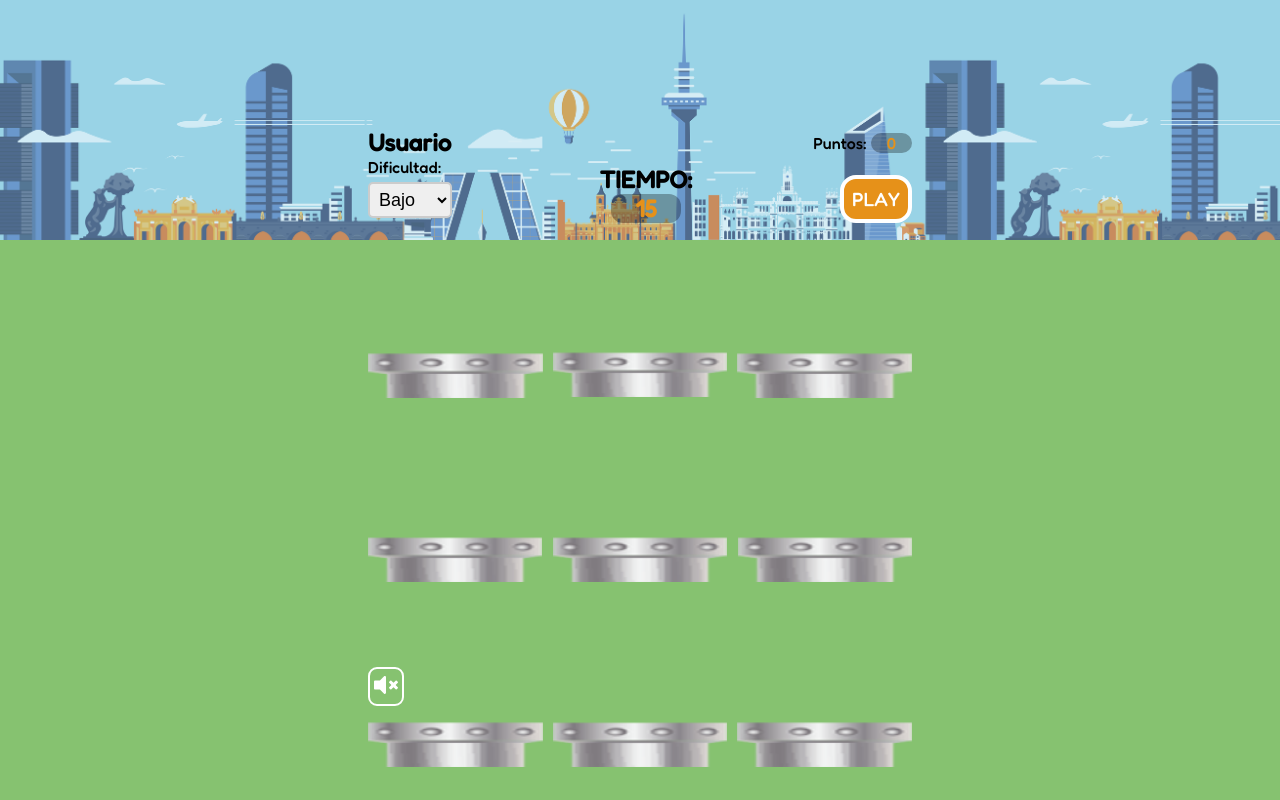
Scenario: Game component › maneja el evento click de PLAY/STOP
Click the button "PLAY".
click(876, 199)  # box [840,175,912,223]
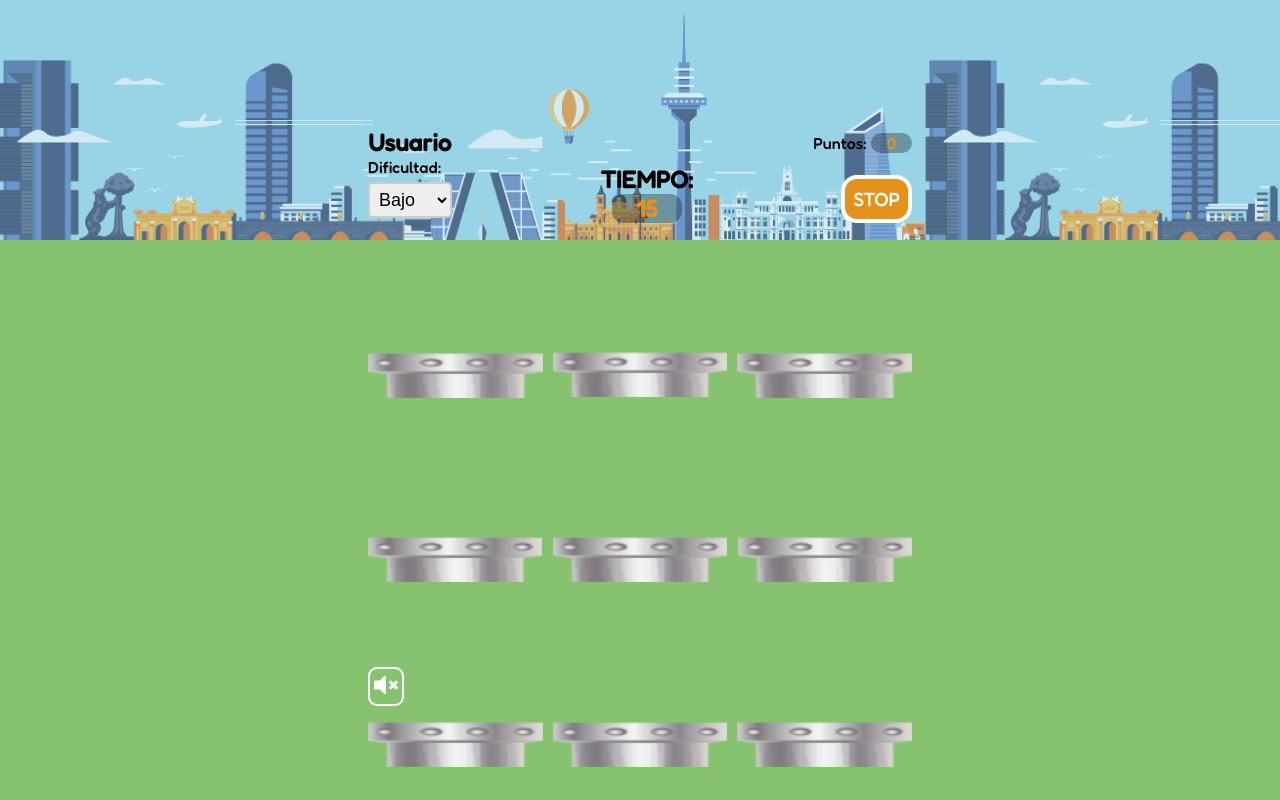
Expected: the button "STOP" is shown, [842,175,912,223]
